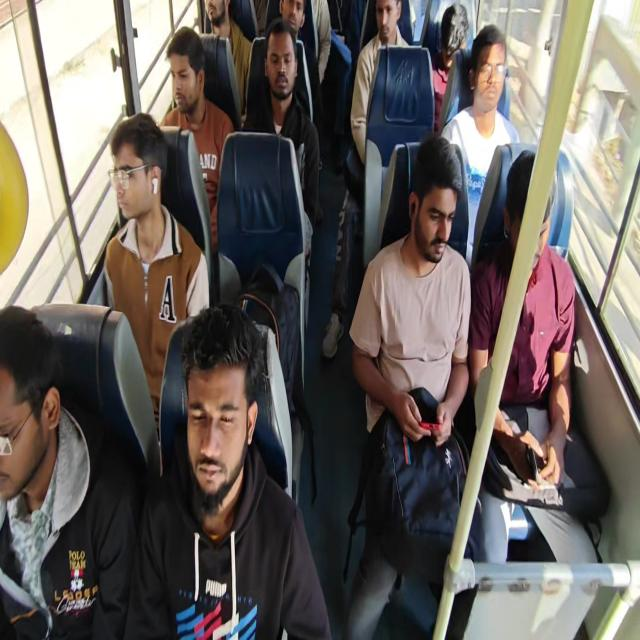person: (163, 287, 289, 611), (0, 248, 80, 624), (106, 106, 179, 281), (493, 144, 559, 321), (264, 25, 325, 184), (403, 143, 457, 308), (466, 23, 528, 148), (433, 11, 484, 91), (165, 36, 206, 120), (297, 0, 357, 56), (376, 0, 412, 61), (271, 0, 302, 43), (199, 0, 234, 26)
